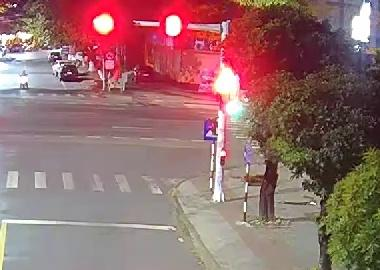red_light: (214, 58, 240, 113), (156, 10, 181, 40), (93, 9, 117, 36)
stop_line: (2, 215, 189, 233)
